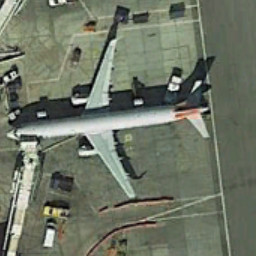Airplane: (2, 26, 222, 204)
